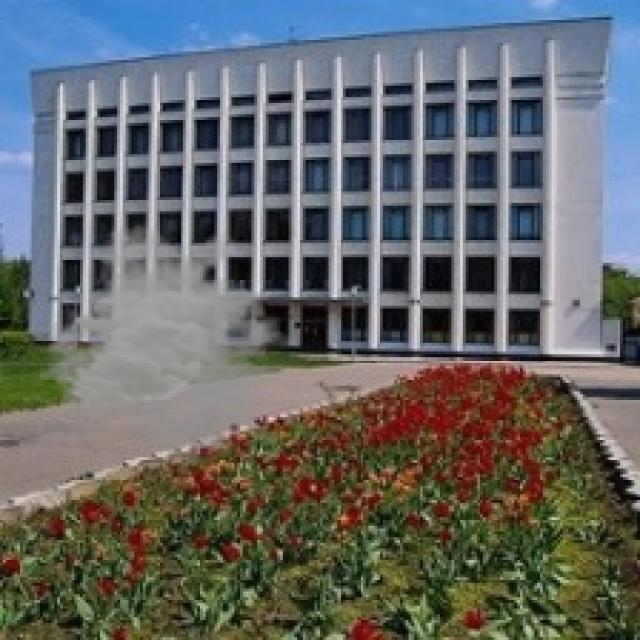Smoke: (34, 223, 309, 454)
